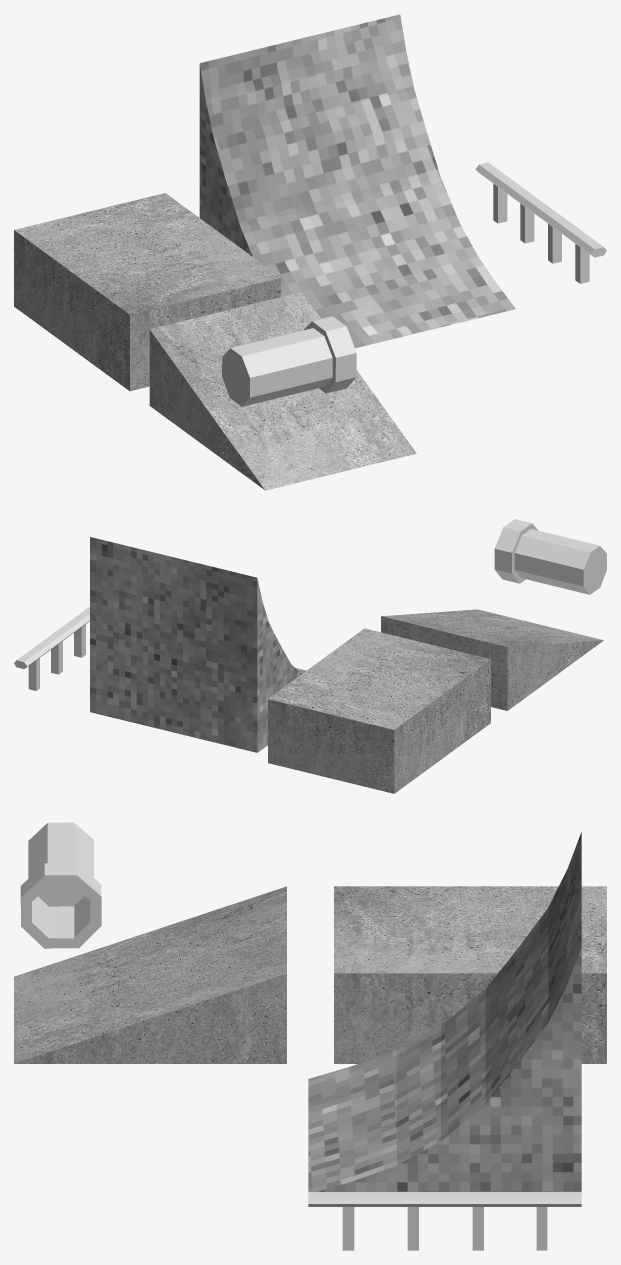
The model's file is arena_bits_skatepark.fbx.
3 renders of one model, top to bottom at view 1: azimuth 30°, elevation 25°; view 2: azimuth 150°, elevation 25°; view 3: azimuth 270°, elevation 25°, orthographic. The views are drawn at different scales.
Parts seen in each view (by area): view 1: concreteramp_curve, concreteblock_large, concreteramp_large, pipeopening_large, metalrailing_large; view 2: concreteramp_curve, concreteblock_large, concreteramp_large, pipeopening_large, metalrailing_large; view 3: concreteramp_curve, concreteramp_large, concreteblock_large, pipeopening_large, metalrailing_large.
Part boxes in pixels (bbox=[...]): concreteramp_curve: bbox=[199, 14, 515, 348]; concreteblock_large: bbox=[14, 193, 281, 391]; concreteramp_large: bbox=[149, 292, 416, 490]; pipeopening_large: bbox=[222, 316, 356, 406]; metalrailing_large: bbox=[475, 162, 606, 283]; concreteramp_curve: bbox=[90, 537, 306, 752]; concreteblock_large: bbox=[268, 628, 490, 793]; concreteramp_large: bbox=[381, 609, 603, 710]; pipeopening_large: bbox=[494, 519, 606, 594]; metalrailing_large: bbox=[14, 607, 89, 690]; concreteramp_curve: bbox=[308, 832, 581, 1191]; concreteramp_large: bbox=[14, 886, 286, 1063]; concreteblock_large: bbox=[334, 886, 606, 1063]; pipeopening_large: bbox=[20, 822, 101, 948]; metalrailing_large: bbox=[308, 1192, 581, 1250].
Size of the model in its own units: 474 by 204 by 434.
